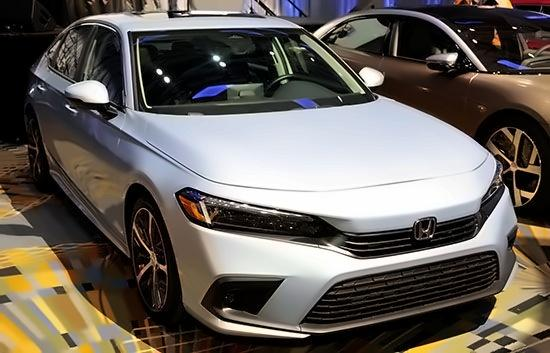Car hood: (145, 97, 490, 194)
Driver-s door - -F-R-: (62, 16, 116, 236)
Fender - -F-R-: (117, 101, 189, 255)
Front bumper: (174, 210, 523, 342)
Headlight - -L-: (477, 153, 509, 205)
Headlight - -R-: (172, 183, 345, 244)
Passenger-s door - -R-R-: (28, 19, 89, 211)
Side bumper - -R-: (39, 146, 134, 260)
Side mirror - -L-: (347, 58, 386, 90)
Side mirror - -R-: (62, 74, 123, 124)
